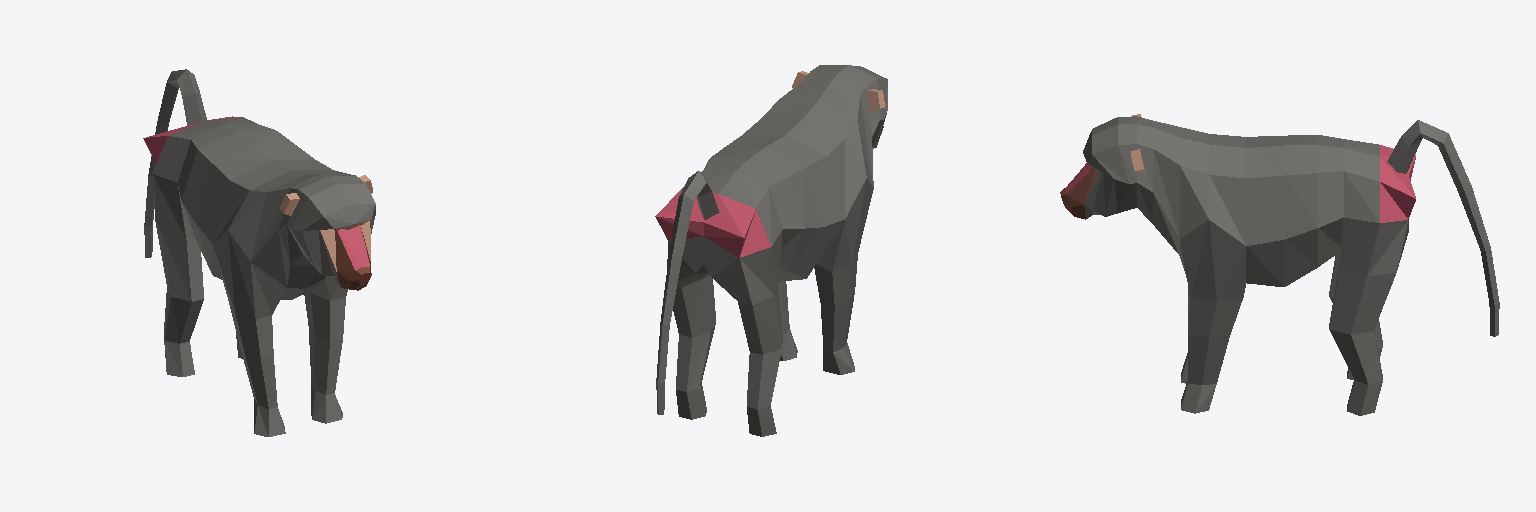
The picture shows the model from 3 angles: view 1: azimuth 30°, elevation 25°; view 2: azimuth 150°, elevation 25°; view 3: azimuth 270°, elevation 25°; orthographic projection.
Parts seen in each view (by area): view 1: Geo_Baboon; view 2: Geo_Baboon; view 3: Geo_Baboon.
Part boxes in pixels (left/top/right/bottom): Geo_Baboon: left=143, top=69, right=375, bottom=436; Geo_Baboon: left=655, top=65, right=887, bottom=436; Geo_Baboon: left=1060, top=114, right=1499, bottom=415.
Size of the model in its own units: 52.26 by 107 by 157.
1 materials, 1 textured.